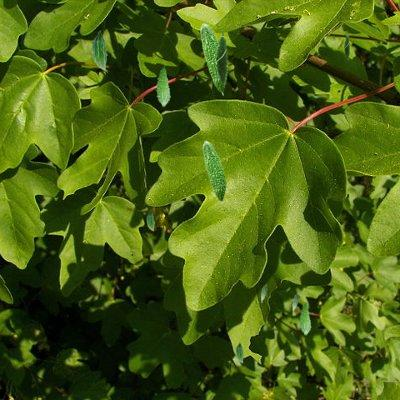ampalaya: (200, 23, 228, 95), (202, 140, 227, 204), (214, 29, 229, 88), (155, 65, 171, 107), (91, 30, 107, 71), (298, 301, 311, 336), (343, 32, 350, 61), (235, 342, 244, 363), (146, 210, 155, 231), (260, 283, 267, 303), (292, 292, 299, 312)
